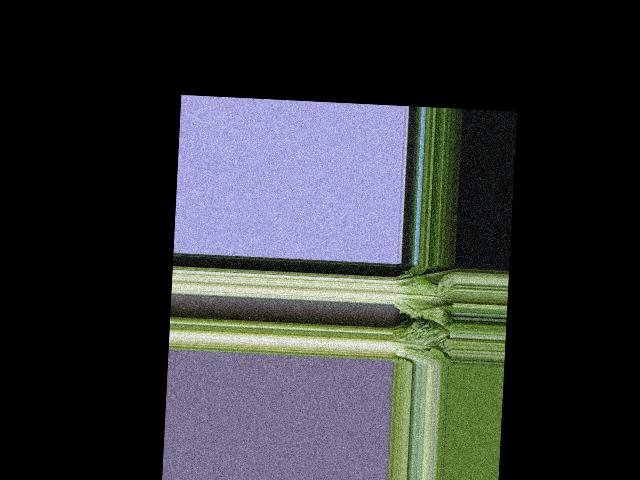lettuce: (390, 321, 449, 363)
